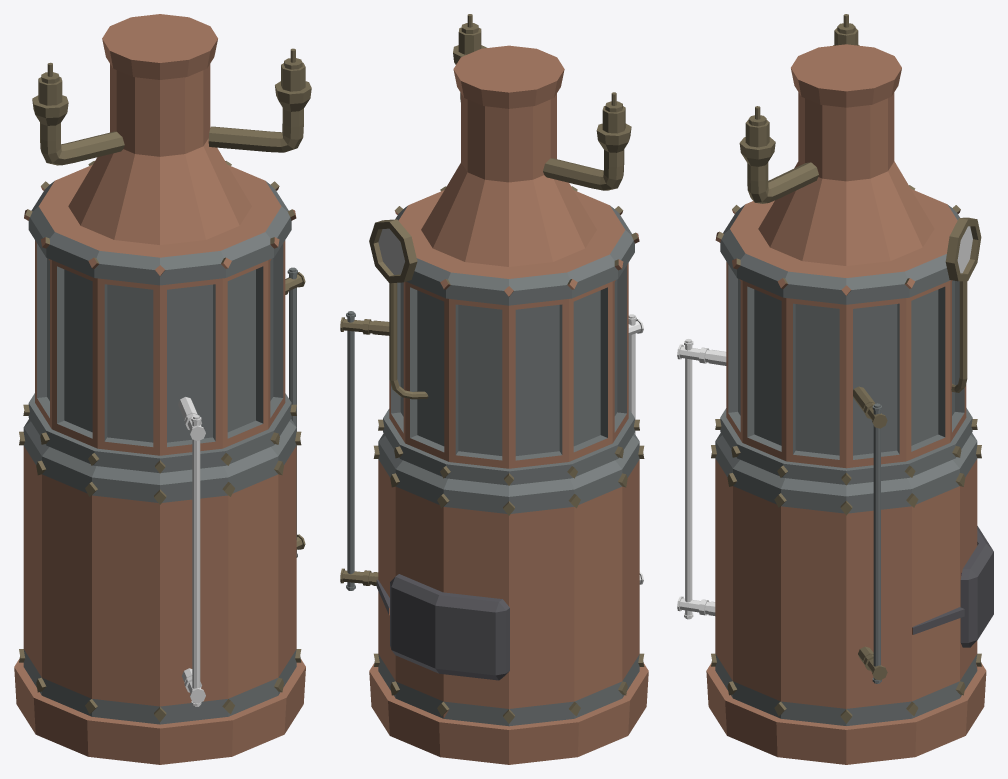
File: caldera_2.fbx
3 views of the same model, side by side, from view 1: azimuth 30°, elevation 25°; view 2: azimuth 150°, elevation 25°; view 3: azimuth 270°, elevation 25° (orthographic). The views are drawn at different scales.
Visible parts, largest first — view 1: Cylinder.002, Cylinder.013, Cylinder.003, Cylinder.012, Cylinder.009, Cylinder.010; view 2: Cylinder.002, Cylinder.006, Cylinder.003, Cylinder.004, Cylinder.009, Cylinder.005, Cylinder.013, Cylinder.012, Cylinder.007; view 3: Cylinder.002, Cylinder.013, Cylinder.006, Cylinder.012, Cylinder.009, Cylinder.004, Cylinder.005, Cylinder.010, Cylinder.007, Cylinder.003.
Part boxes in pixels (x1,y1,x2,y2): Cylinder.002: (14, 14, 305, 764); Cylinder.013: (208, 48, 311, 152); Cylinder.003: (32, 62, 124, 165); Cylinder.012: (191, 415, 201, 706); Cylinder.009: (287, 267, 297, 557); Cylinder.010: (178, 397, 205, 440); Cylinder.002: (369, 45, 648, 764); Cylinder.006: (390, 574, 509, 680); Cylinder.003: (543, 92, 631, 190); Cylinder.004: (369, 219, 417, 283); Cylinder.009: (346, 311, 355, 590); Cylinder.005: (389, 283, 428, 399); Cylinder.013: (453, 14, 486, 101); Cylinder.012: (628, 314, 636, 434); Cylinder.007: (340, 317, 389, 335); Cylinder.002: (706, 44, 986, 764); Cylinder.013: (739, 106, 818, 203); Cylinder.006: (960, 526, 993, 647); Cylinder.012: (684, 339, 693, 619); Cylinder.009: (872, 403, 881, 683); Cylinder.004: (945, 217, 981, 281); Cylinder.005: (951, 281, 967, 392); Cylinder.010: (677, 344, 726, 365); Cylinder.007: (853, 386, 887, 428); Cylinder.003: (833, 14, 859, 45).
Size of the model in its own units: 247 by 552 by 247.
